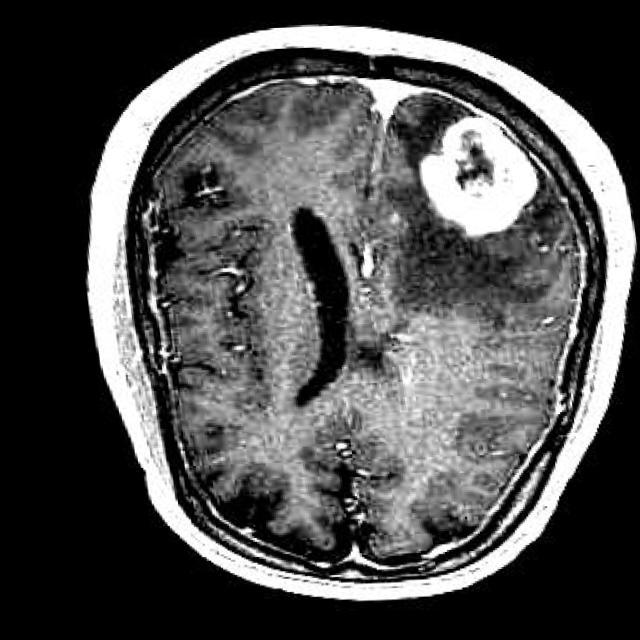Tumor: (419, 121, 533, 240)
